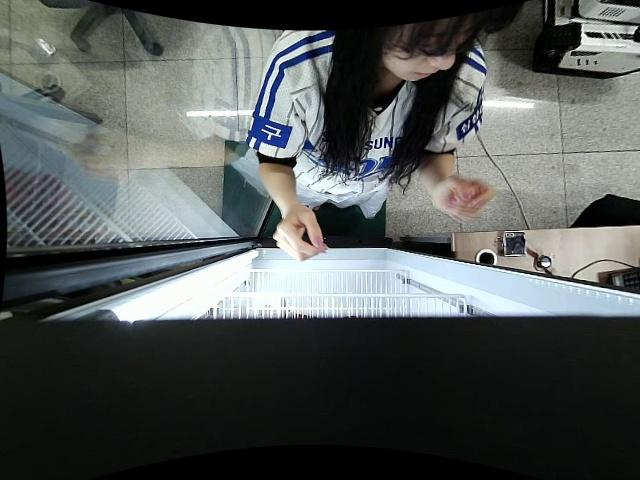00_hand: (272, 204, 327, 263), (433, 177, 492, 223)
